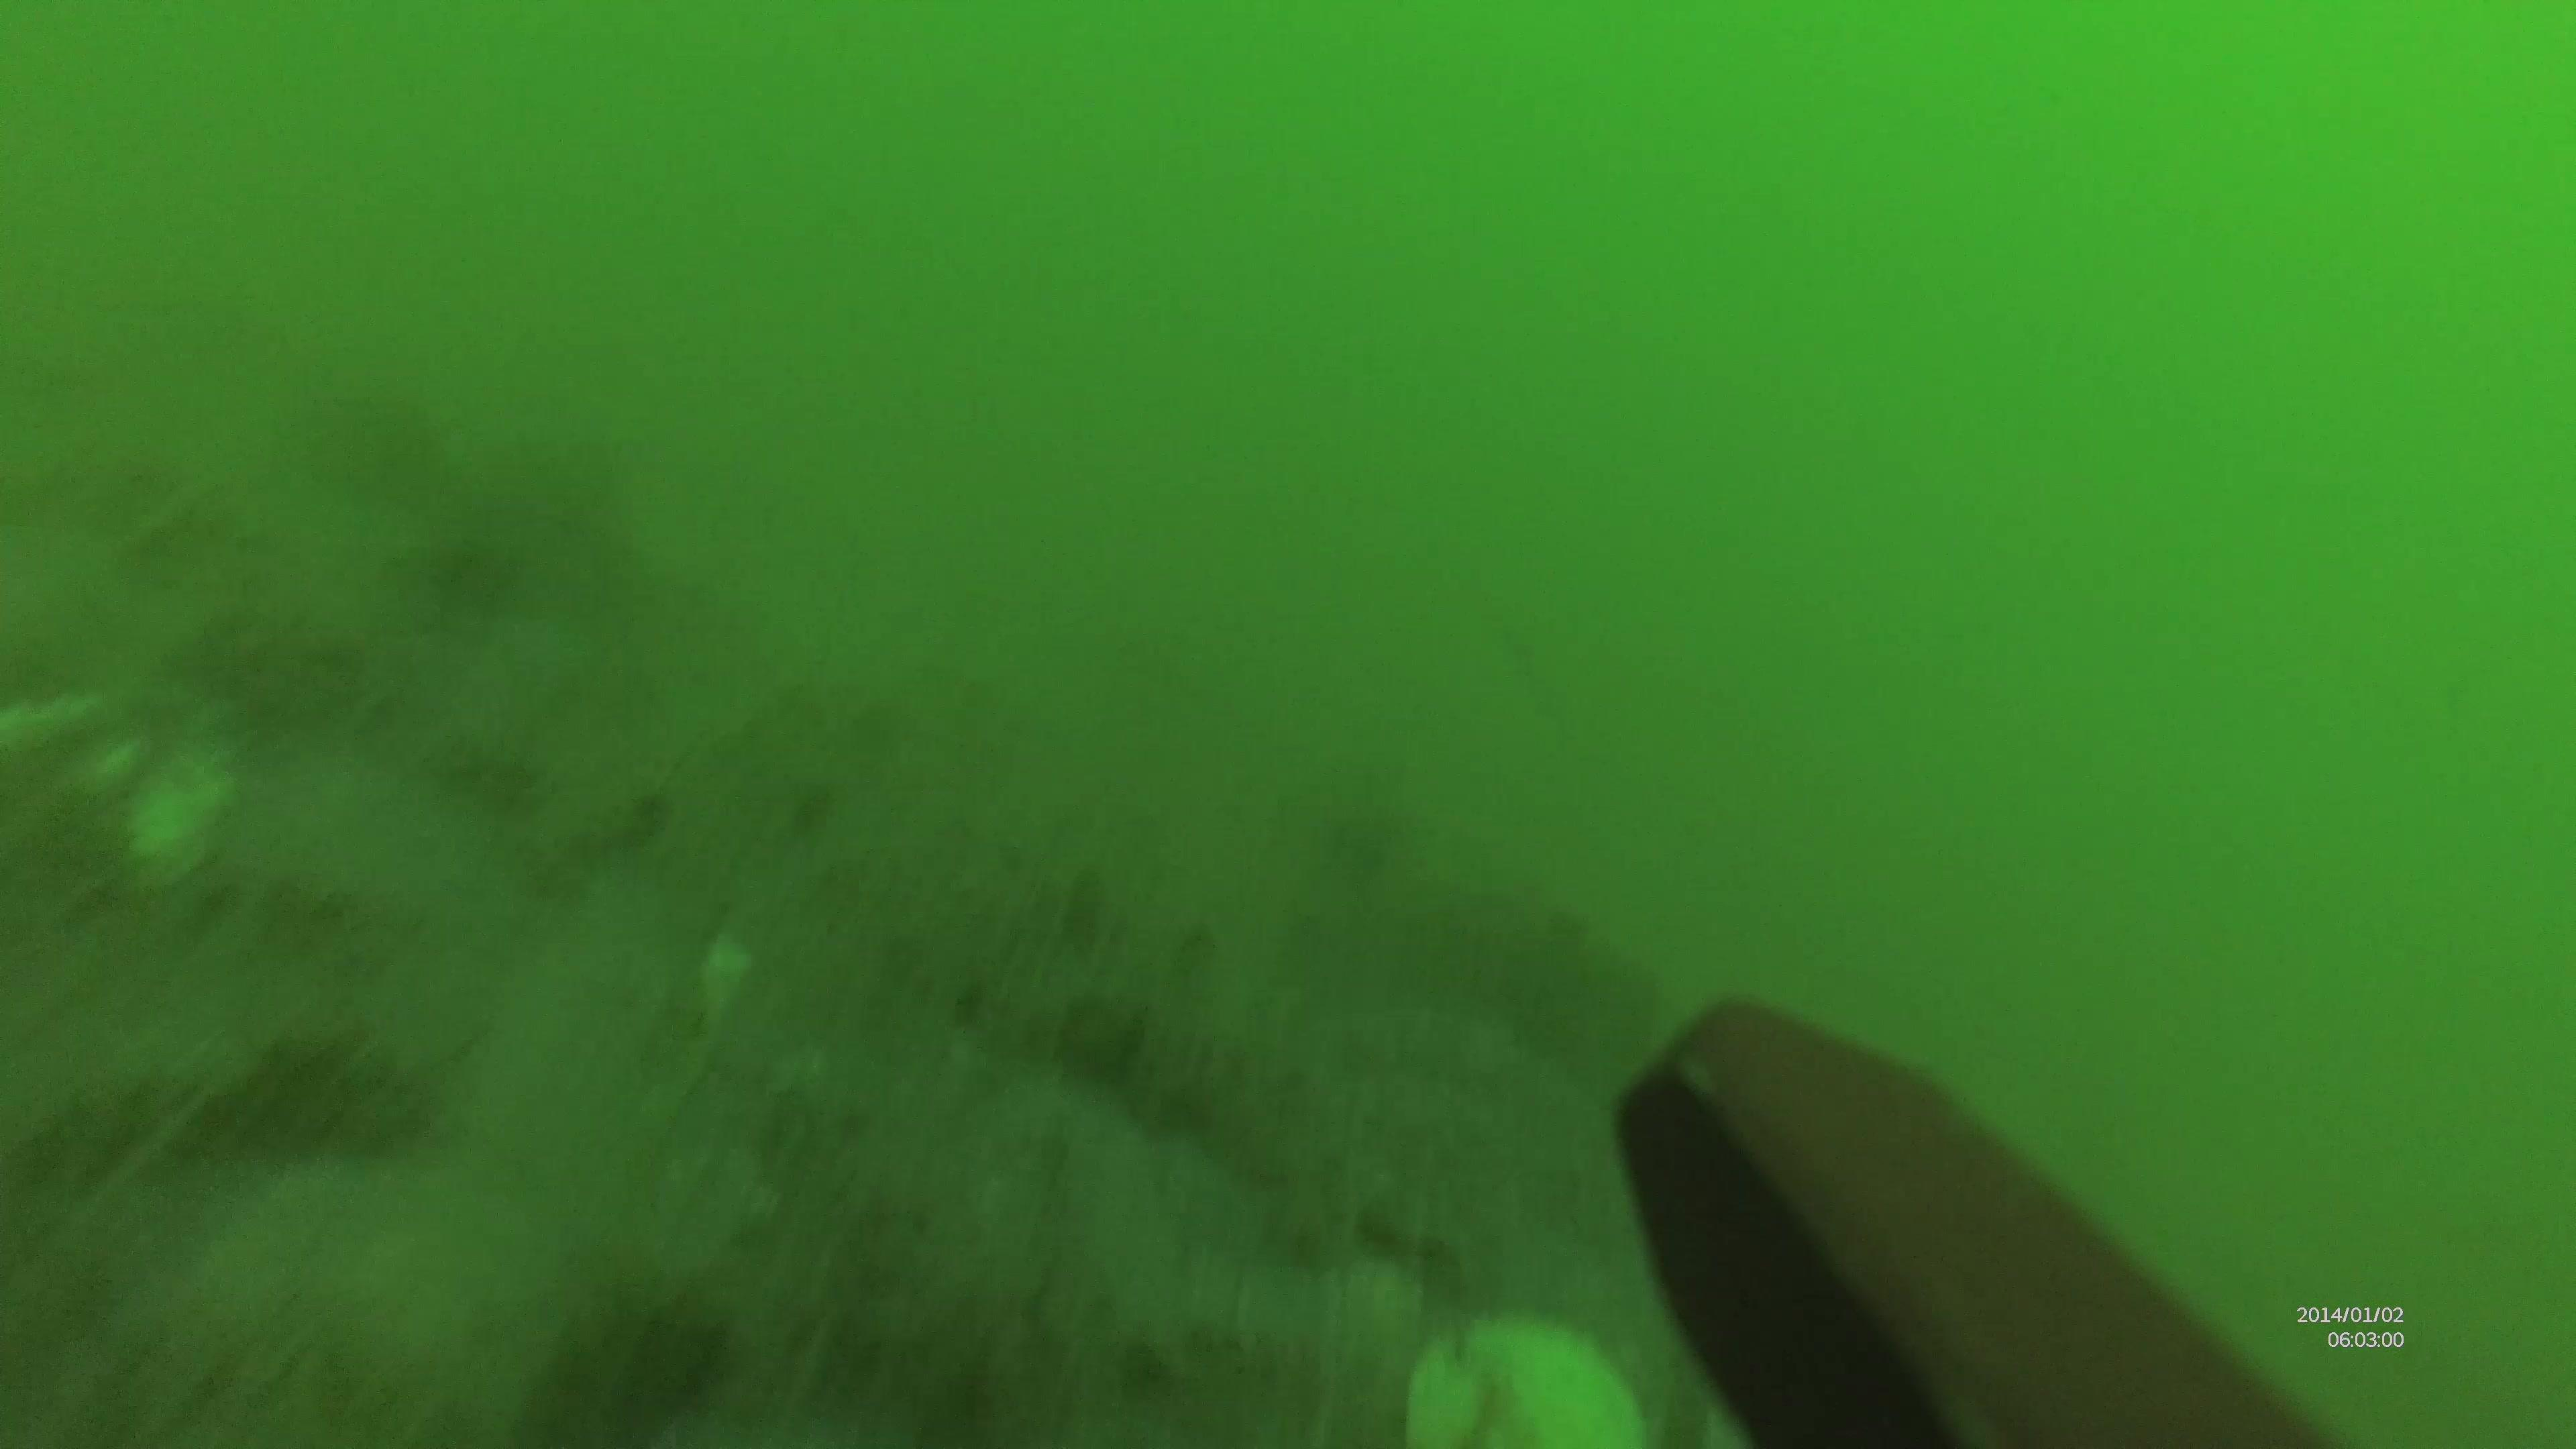scallop: (1401, 1327, 1644, 1449), (104, 752, 230, 895)
